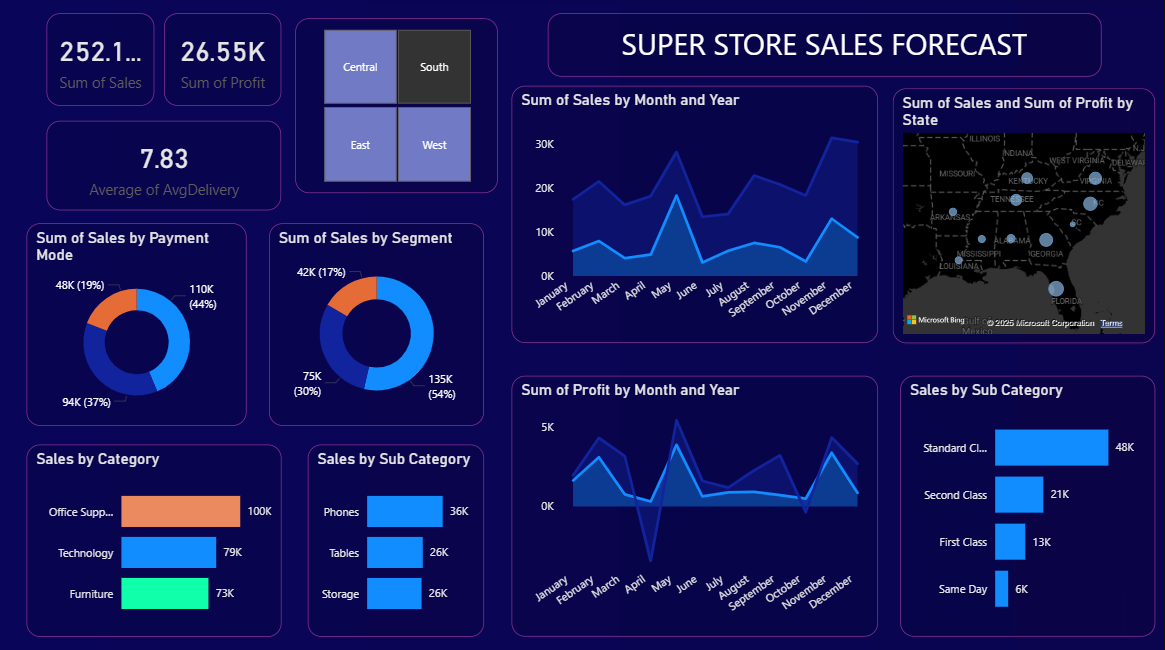

This screenshot's page, from the dashboard's own definition file:
{"tool":"powerbi","page":{"name":"Page 1","canvas":[1280,720],"ordinal":0},"visuals":[{"type":"clusteredBarChart","title":"Sales by Category","fields":{"Category":["SuperStore_Sales_Dataset.Category"],"Y":["Sum(SuperStore_Sales_Dataset.Sales)"]},"box":[30.2,491.3,279.9,211.3],"z":0},{"type":"clusteredBarChart","title":"Sales by Sub Category","fields":{"Y":["Sum(SuperStore_Sales_Dataset.Sales)"],"Category":["SuperStore_Sales_Dataset.Sub-Category"]},"box":[338.9,491.3,193.5,211.3],"z":1000},{"type":"clusteredBarChart","title":"Sales by Sub Category","fields":{"Y":["Sum(SuperStore_Sales_Dataset.Sales)"],"Category":["SuperStore_Sales_Dataset.Ship Mode"]},"box":[989.4,415.8,279.9,286.8],"z":2000},{"type":"stackedAreaChart","fields":{"Y":["Sum(SuperStore_Sales_Dataset.Sales)"],"Category":["SuperStore_Sales_Dataset.Order Date.Variation.Date Hierarchy.Month"],"Series":["SuperStore_Sales_Dataset.Order Date.Variation.Date Hierarchy.Year"]},"box":[562.6,97.4,402.1,282.7],"z":3000},{"type":"stackedAreaChart","fields":{"Category":["SuperStore_Sales_Dataset.Order Date.Variation.Date Hierarchy.Month"],"Series":["SuperStore_Sales_Dataset.Order Date.Variation.Date Hierarchy.Year"],"Y":["Sum(SuperStore_Sales_Dataset.Profit)"]},"box":[562.6,415.8,402.1,286.8],"z":4000},{"type":"map","fields":{"Category":["SuperStore_Sales_Dataset.State"],"Size":["Sum(SuperStore_Sales_Dataset.Sales)"]},"box":[981.1,100.2,288.2,279.9],"z":5000},{"type":"donutChart","fields":{"Category":["SuperStore_Sales_Dataset.Segment"],"Y":["Sum(SuperStore_Sales_Dataset.Sales)"]},"box":[296.4,248.4,236,222.3],"z":6000},{"type":"donutChart","fields":{"Category":["SuperStore_Sales_Dataset.Payment Mode"],"Y":["Sum(SuperStore_Sales_Dataset.Sales)"]},"box":[30.2,248.4,241.5,222.3],"z":7000},{"type":"slicer","fields":{"Values":["SuperStore_Sales_Dataset.Region"]},"box":[338.9,17.8,625.7,52.1],"z":8000},{"type":"card","fields":{"Values":["Sum(SuperStore_Sales_Dataset.Sales)"]},"box":[52.1,17.8,118,101.5],"z":9000},{"type":"card","fields":{"Values":["Sum(SuperStore_Sales_Dataset.Profit)"]},"box":[181.1,17.8,129,101.5],"z":10000},{"type":"card","fields":{"Values":["Avg(SuperStore_Sales_Dataset.AvgDelivery)"]},"box":[52.1,135.8,258,98.8],"z":11000}]}

Visuals, with their boxes in screenshot pixels (x1, y1, x2, y2), scaled from the page's 1280x720 canvas onto the 1165x650 screenshot:
"Sales by Category" clusteredBarChart: 27:444:282:634
"Sales by Sub Category" clusteredBarChart: 308:444:485:634
"Sales by Sub Category" clusteredBarChart: 901:375:1155:634
stackedAreaChart - Sum(SuperStore_Sales_Dataset.Sales) x SuperStore_Sales_Dataset.Order Date.Variation.Date Hierarchy.Month: 512:88:878:343
stackedAreaChart - SuperStore_Sales_Dataset.Order Date.Variation.Date Hierarchy.Month x SuperStore_Sales_Dataset.Order Date.Variation.Date Hierarchy.Year: 512:375:878:634
map - SuperStore_Sales_Dataset.State x Sum(SuperStore_Sales_Dataset.Sales): 893:90:1155:343
donutChart - SuperStore_Sales_Dataset.Segment x Sum(SuperStore_Sales_Dataset.Sales): 270:224:485:425
donutChart - SuperStore_Sales_Dataset.Payment Mode x Sum(SuperStore_Sales_Dataset.Sales): 27:224:247:425
slicer - SuperStore_Sales_Dataset.Region: 308:16:878:63
card - Sum(SuperStore_Sales_Dataset.Sales): 47:16:155:108
card - Sum(SuperStore_Sales_Dataset.Profit): 165:16:282:108
card - Avg(SuperStore_Sales_Dataset.AvgDelivery): 47:123:282:212
